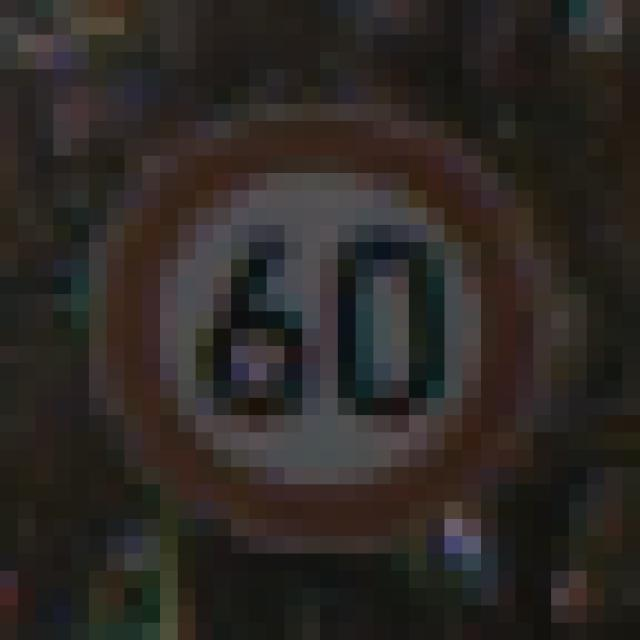Ograniczenie predkosci do 60: (89, 116, 526, 534)
